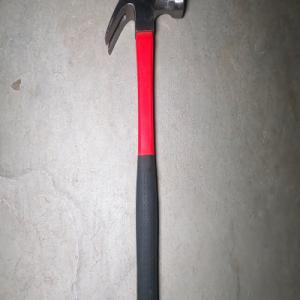Hammer: (104, 0, 184, 300)
